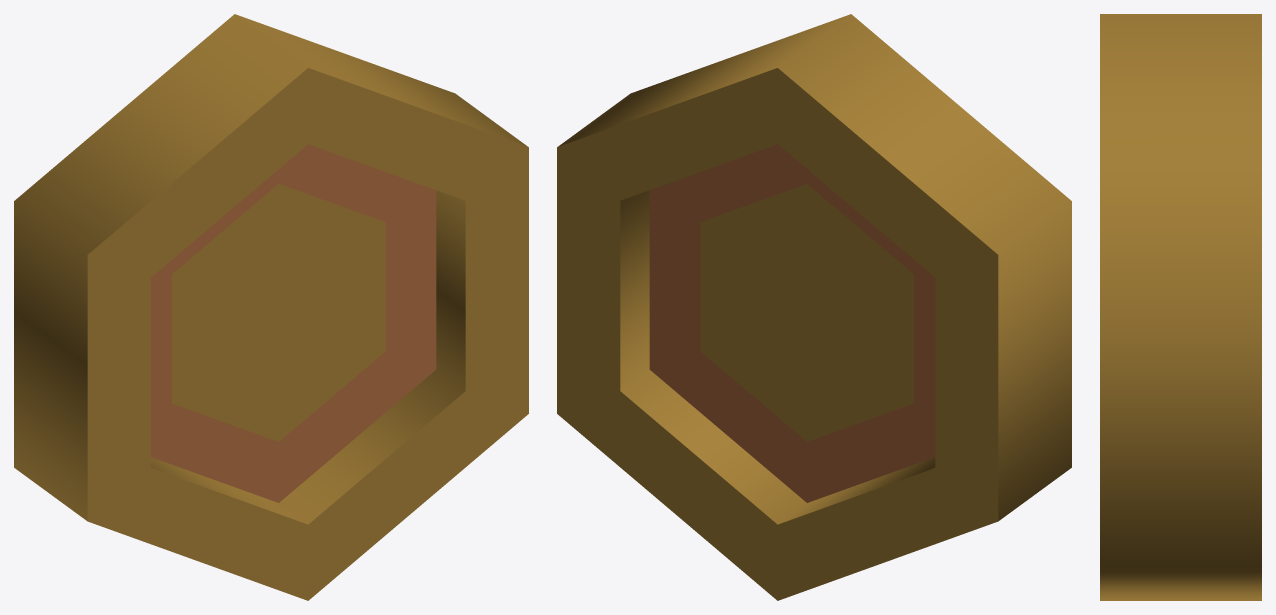
File: coinGold.glb
The picture shows the model from 3 angles, left to right: view 1: azimuth 30°, elevation 25°; view 2: azimuth 150°, elevation 25°; view 3: azimuth 270°, elevation 25°; orthographic projection. The views are drawn at different scales.
Visible parts, largest first — view 1: coinGold; view 2: coinGold; view 3: coinGold.
Boxes of the visible parts, <box> form: coinGold: <box>14,14,528,600</box>; coinGold: <box>557,14,1071,600</box>; coinGold: <box>1100,14,1261,600</box>.
Size of the model in its own units: 0.3464 by 0.4 by 0.1.
